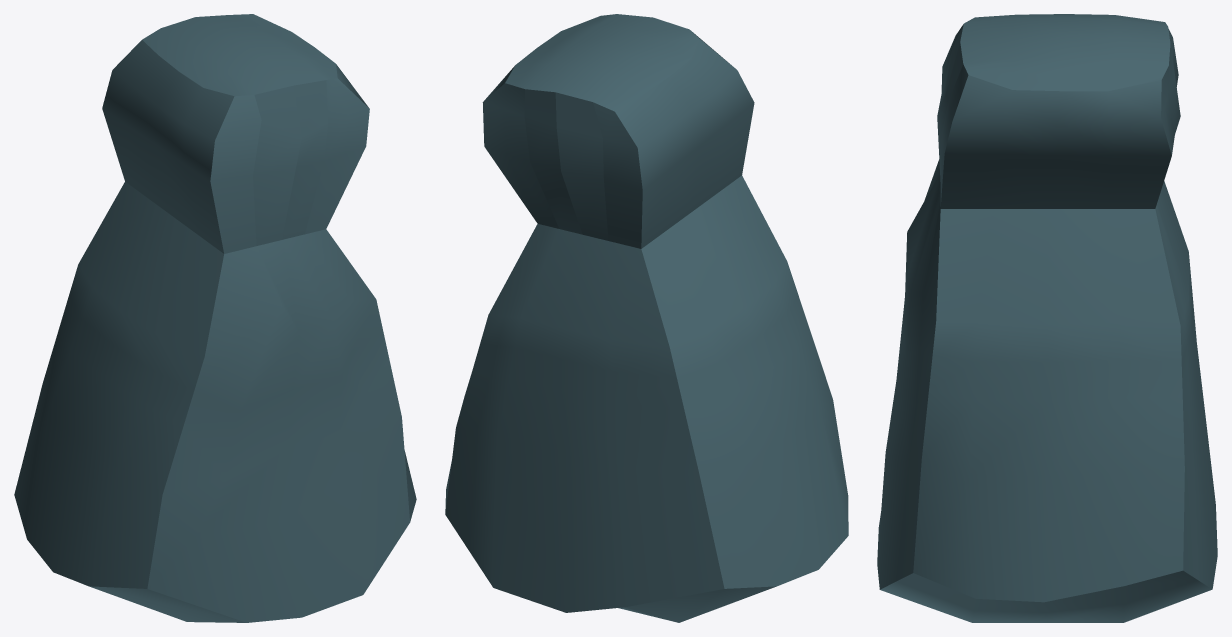
File: Sewer_GarbageBag.fbx
The picture shows the model from 3 angles, left to right: view 1: azimuth 30°, elevation 25°; view 2: azimuth 150°, elevation 25°; view 3: azimuth 270°, elevation 25°; orthographic projection. The views are drawn at different scales.
Visible parts, largest first — view 1: Garbage_Bag; view 2: Garbage_Bag; view 3: Garbage_Bag.
Boxes of the visible parts, x1=… form: Garbage_Bag: x1=14, y1=14, x2=416, y2=622; Garbage_Bag: x1=445, y1=14, x2=848, y2=622; Garbage_Bag: x1=877, y1=14, x2=1217, y2=622.
Size of the model in its own units: 19.04 by 29.06 by 15.47.
